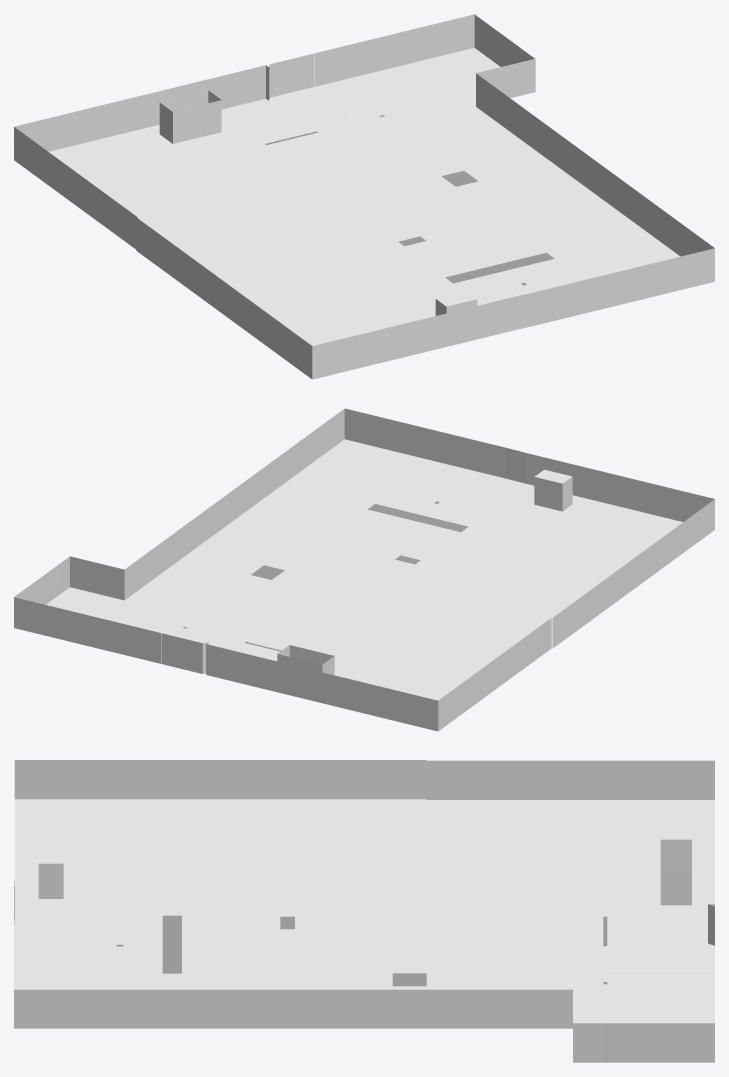
The model's file is celing_4f.fbx.
The picture shows the model from 3 angles, top to bottom: view 1: azimuth 30°, elevation 25°; view 2: azimuth 150°, elevation 25°; view 3: azimuth 270°, elevation 25°; orthographic projection. The views are drawn at different scales.
Visible parts, largest first — view 1: celing_4f; view 2: celing_4f; view 3: celing_4f.
Boxes of the visible parts, x1,y1,x2,y2 form: celing_4f: [14, 14, 714, 379]; celing_4f: [14, 408, 714, 731]; celing_4f: [14, 760, 714, 1062].
Size of the model in its own units: 0.4106 by 0.0285 by 0.4613.
3 materials, 1 textured.
